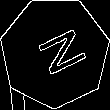N_SW: (24, 23, 86, 81)
